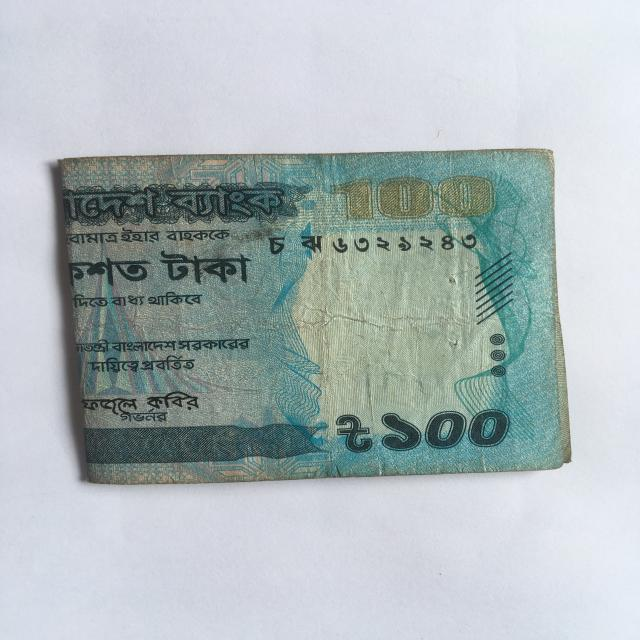Taka: (49, 143, 568, 483)
